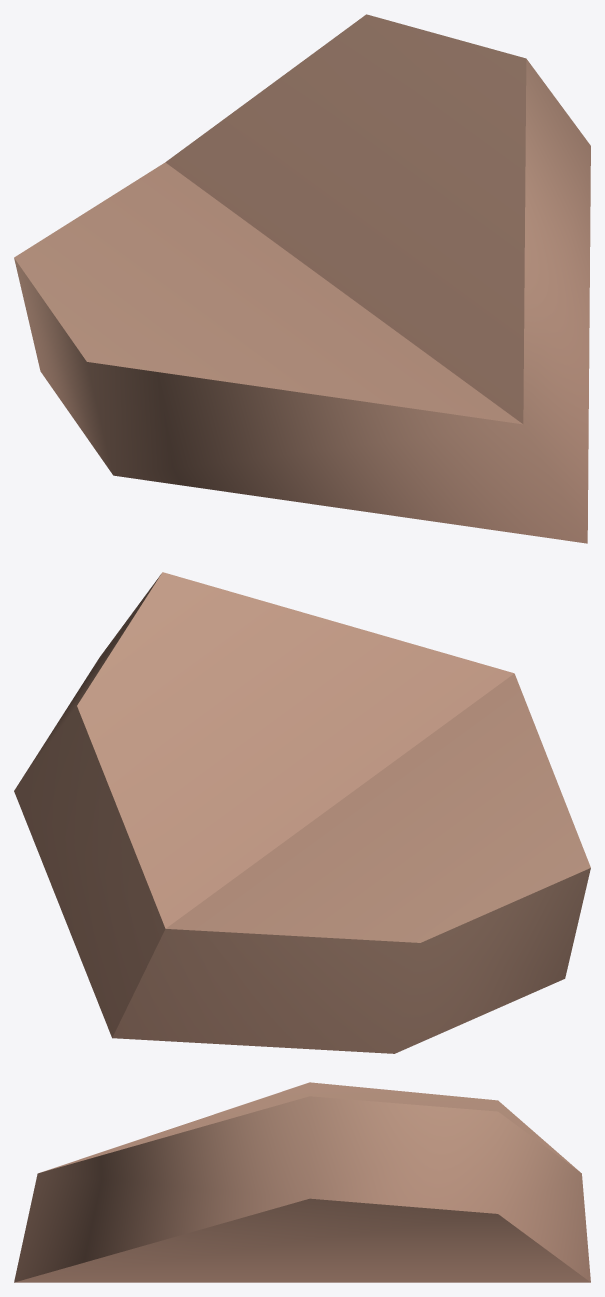
The model's file is (%no-merge) 28.glb.
The picture shows the model from 3 angles, top to bottom: view 1: azimuth 30°, elevation 25°; view 2: azimuth 150°, elevation 25°; view 3: azimuth 270°, elevation 25°; orthographic projection. The views are drawn at different scales.
Visible parts, largest first — view 1: (%no-merge) 28; view 2: (%no-merge) 28; view 3: (%no-merge) 28.
Boxes of the visible parts, x1=… form: (%no-merge) 28: x1=14, y1=14, x2=590, y2=543; (%no-merge) 28: x1=14, y1=572, x2=590, y2=1053; (%no-merge) 28: x1=14, y1=1082, x2=590, y2=1282.
Size of the model in its own units: 0.1393 by 0.0836 by 0.1817.
